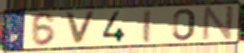0: (171, 7, 197, 42)
4: (101, 9, 128, 45)
6: (30, 11, 60, 48)
I: (142, 8, 153, 44)
N: (200, 4, 236, 42)
V: (63, 11, 97, 46)
